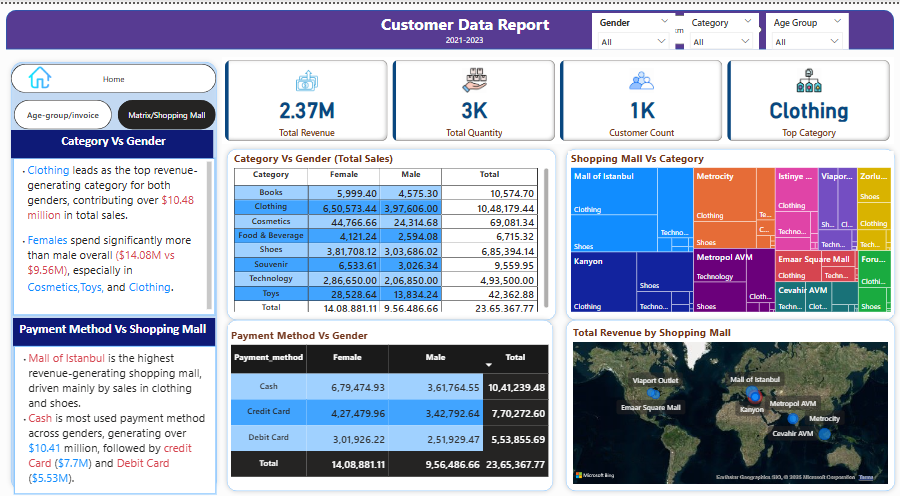

This screenshot's page, from the dashboard's own definition file:
{"tool":"powerbi","page":{"name":"Matrix/Shopping Mall","canvas":[1500,820],"ordinal":2},"visuals":[{"type":"shape","box":[10,88.3,360,731.7],"z":0},{"type":"cardVisual","fields":{"Data":["Sum(customer.Total Revenue)","customer.Total Quantity","customer.Customer Count","customer.Top Category"]},"box":[370,88.3,1120,145],"z":1000},{"type":"shape","box":[10,10,1480,65.7],"z":2000},{"type":"textbox","box":[614.3,10,320,50],"z":3000},{"type":"textbox","box":[731.7,46.7,85,28.3],"z":4000},{"type":"shape","box":[370,233.3,565,301.7],"z":5000},{"type":"textbox","box":[21.7,523.3,336.7,46.7],"z":6000},{"type":"shape","box":[935,233.3,565,301.7],"z":7000},{"type":"shape","box":[370,518.3,560,301.7],"z":8000},{"type":"shape","box":[935,518.3,565,301.7],"z":9000},{"type":"textbox","box":[21.7,256.7,336.7,261.7],"z":10000},{"type":"treemap","title":"Shopping Mall Vs Category","fields":{"Values":["customer.Total Sales"],"Group":["customer.shopping_mall","customer.Age Group","customer.gender"],"Details":["customer.Category"]},"box":[946.7,245,543.3,273.3],"z":11000},{"type":"map","title":"Total Revenue by Shopping Mall","fields":{"Size":["Sum(customer.Total Revenue)"],"Category":["customer.shopping_mall"]},"box":[950,535,535,270],"z":12000},{"type":"pivotTable","title":"Category Vs Gender (Total Sales)","fields":{"Rows":["customer.Category"],"Columns":["customer.gender"],"Values":["customer.Total Sales"]},"box":[385,245,535,273.3],"z":13000},{"type":"pivotTable","title":"Payment Method Vs Gender","fields":{"Rows":["customer.payment_method"],"Columns":["customer.gender"],"Values":["customer.Total Sales"]},"box":[380,535,540,265],"z":14000},{"type":"pageNavigator","box":[19,100,342,48],"z":15000},{"type":"pageNavigator","box":[23,160,337.5,50],"z":16000},{"type":"image","box":[41.1,98.2,50,48.2],"z":17000},{"type":"bookmarkNavigator","box":[996.4,17.9,273.2,50],"z":18000},{"type":"slicer","fields":{"Values":["customer.gender"]},"box":[987.5,14.3,139.3,60.7],"z":19000},{"type":"slicer","fields":{"Values":["customer.Age Group"]},"box":[1276.8,14.3,137.5,60.7],"z":20000},{"type":"slicer","fields":{"Values":["customer.Category"]},"box":[1139.3,14.3,125,60.7],"z":21000},{"type":"textbox","box":[18.3,210,336.7,46.7],"z":21001},{"type":"textbox","box":[23.3,570,336.7,246.7],"z":21002}]}

Visuals, with their boxes in screenshot pixels (x1, y1, x2, y2), scaled from the page's 1500x820 canvas onto the 900x496 screenshot:
shape: box=[6, 53, 222, 495]
cardVisual - Sum(customer.Total Revenue) x customer.Total Quantity: box=[222, 53, 894, 141]
shape: box=[6, 6, 894, 46]
textbox: box=[369, 6, 561, 36]
textbox: box=[439, 28, 490, 45]
shape: box=[222, 141, 561, 324]
textbox: box=[13, 317, 215, 345]
shape: box=[561, 141, 899, 324]
shape: box=[222, 314, 558, 495]
shape: box=[561, 314, 899, 495]
textbox: box=[13, 155, 215, 314]
"Shopping Mall Vs Category" treemap: box=[568, 148, 894, 314]
"Total Revenue by Shopping Mall" map: box=[570, 324, 891, 487]
"Category Vs Gender (Total Sales)" pivotTable: box=[231, 148, 552, 314]
"Payment Method Vs Gender" pivotTable: box=[228, 324, 552, 484]
pageNavigator: box=[11, 60, 217, 90]
pageNavigator: box=[14, 97, 216, 127]
image: box=[25, 59, 55, 89]
bookmarkNavigator: box=[598, 11, 762, 41]
slicer - customer.gender: box=[592, 9, 676, 45]
slicer - customer.Age Group: box=[766, 9, 849, 45]
slicer - customer.Category: box=[684, 9, 759, 45]
textbox: box=[11, 127, 213, 155]
textbox: box=[14, 345, 216, 494]
